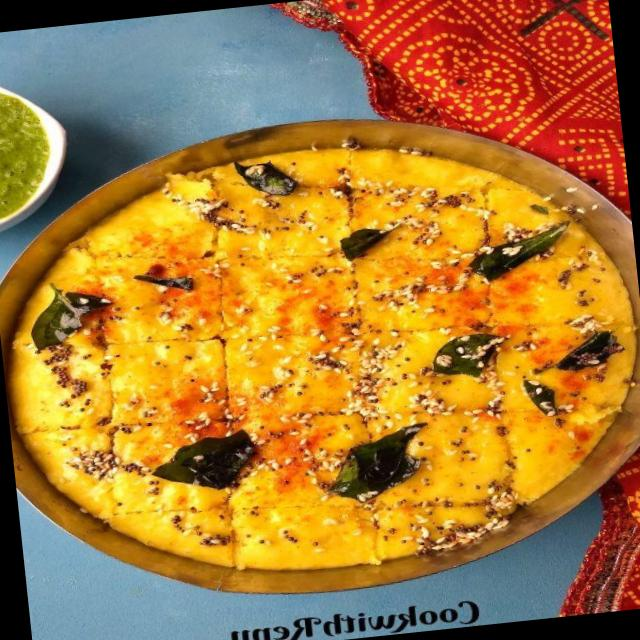dhokla: (0, 114, 640, 601)
